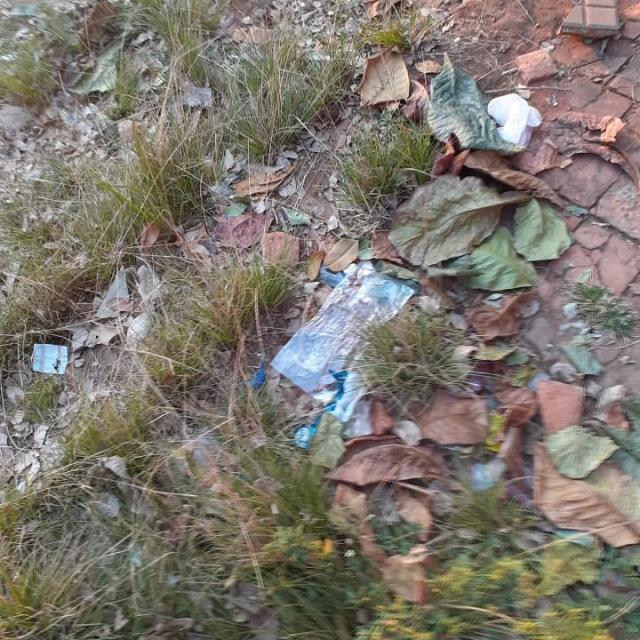litter: (270, 268, 414, 435), (490, 93, 542, 145), (34, 346, 68, 374)
